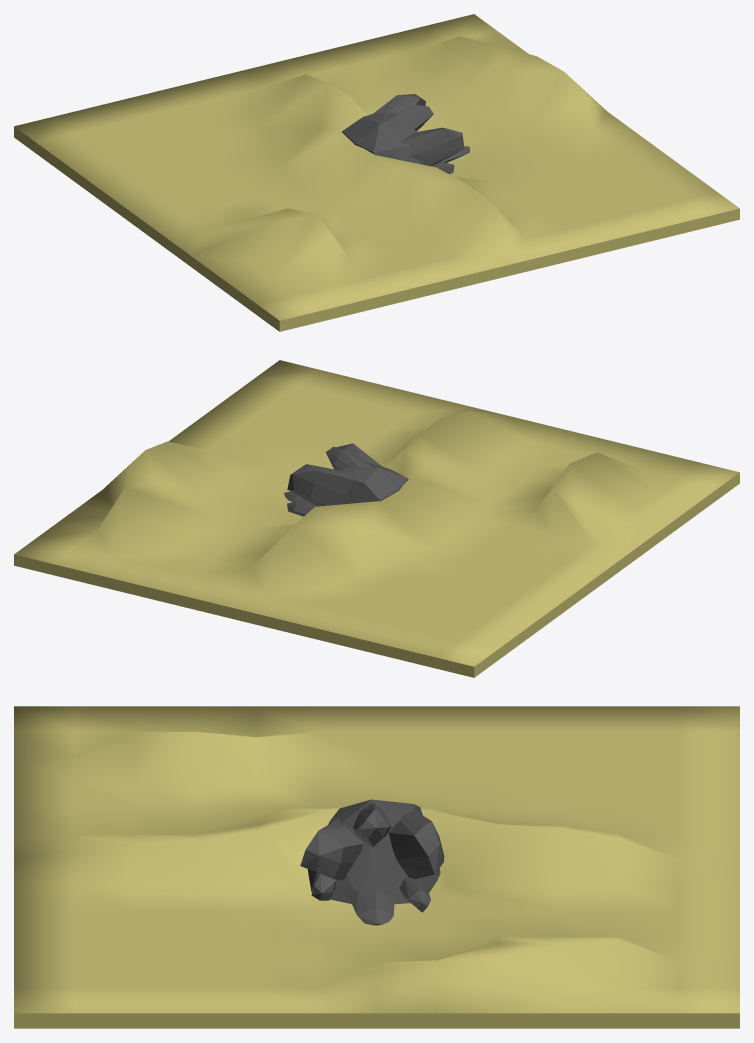
The model's file is Desert III.fbx.
3 views of the same model, one above another, from view 1: azimuth 30°, elevation 25°; view 2: azimuth 150°, elevation 25°; view 3: azimuth 270°, elevation 25° (orthographic). The views are drawn at different scales.
Visible parts, largest first — view 1: Desert III; view 2: Desert III; view 3: Desert III.
Boxes of the visible parts, x1=… form: Desert III: x1=14, y1=14, x2=739, y2=331; Desert III: x1=14, y1=360, x2=739, y2=677; Desert III: x1=14, y1=706, x2=739, y2=1028.
Bounding box in the file's own units: 1600 × 218 × 1600.
